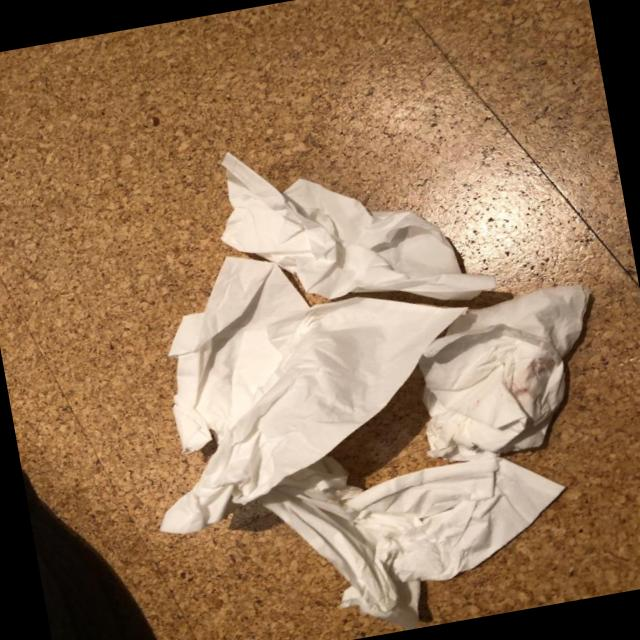organic waste: (110, 214, 498, 542), (247, 417, 589, 640), (204, 105, 501, 341), (393, 278, 618, 468)
